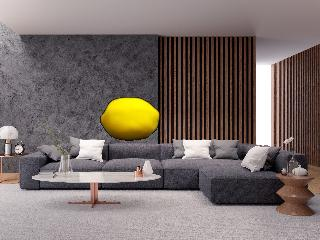lemon: (102, 99, 160, 141)
